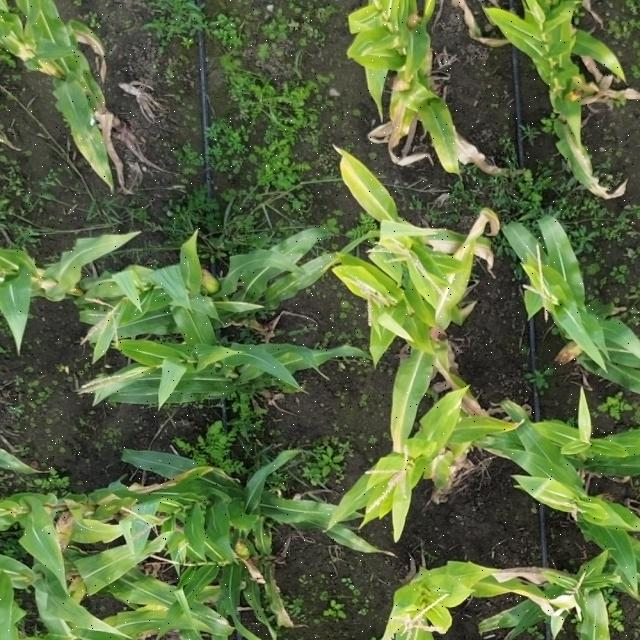gray-leaf-spot: (260, 242, 326, 306)
northern-leaf-blight: (358, 362, 433, 462), (60, 84, 127, 180), (561, 121, 631, 208), (371, 72, 429, 156)
southern-leaf-blight: (100, 566, 235, 640)
